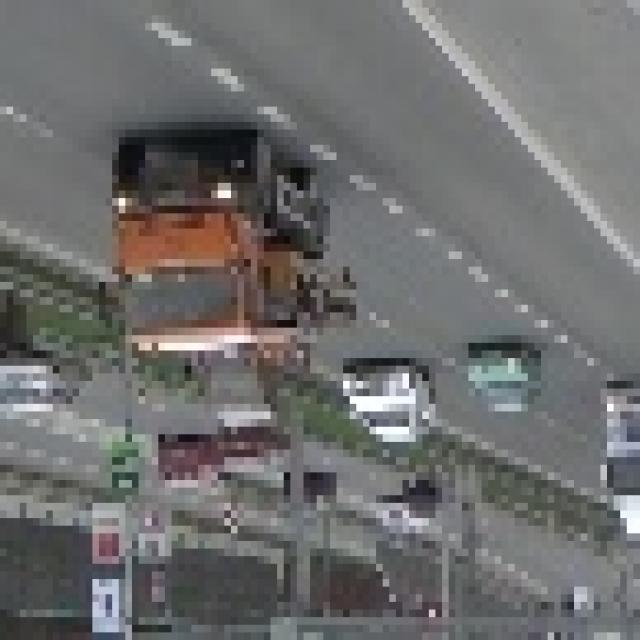truck: (92, 137, 336, 373)
